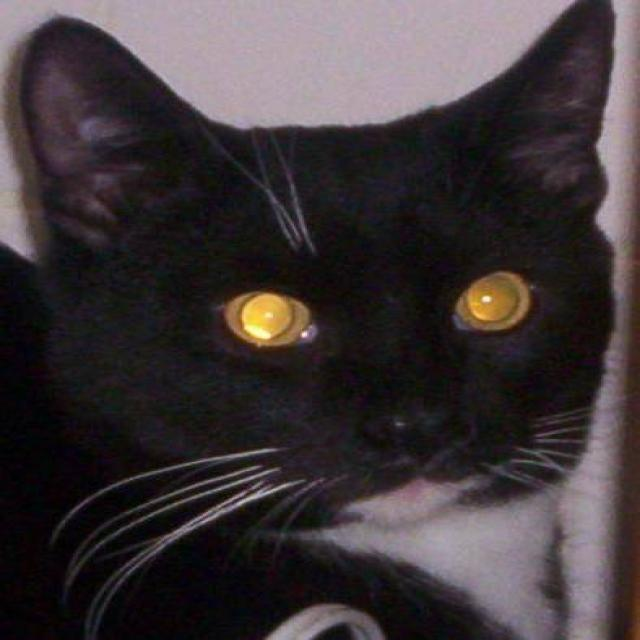cat: (8, 0, 622, 639)
